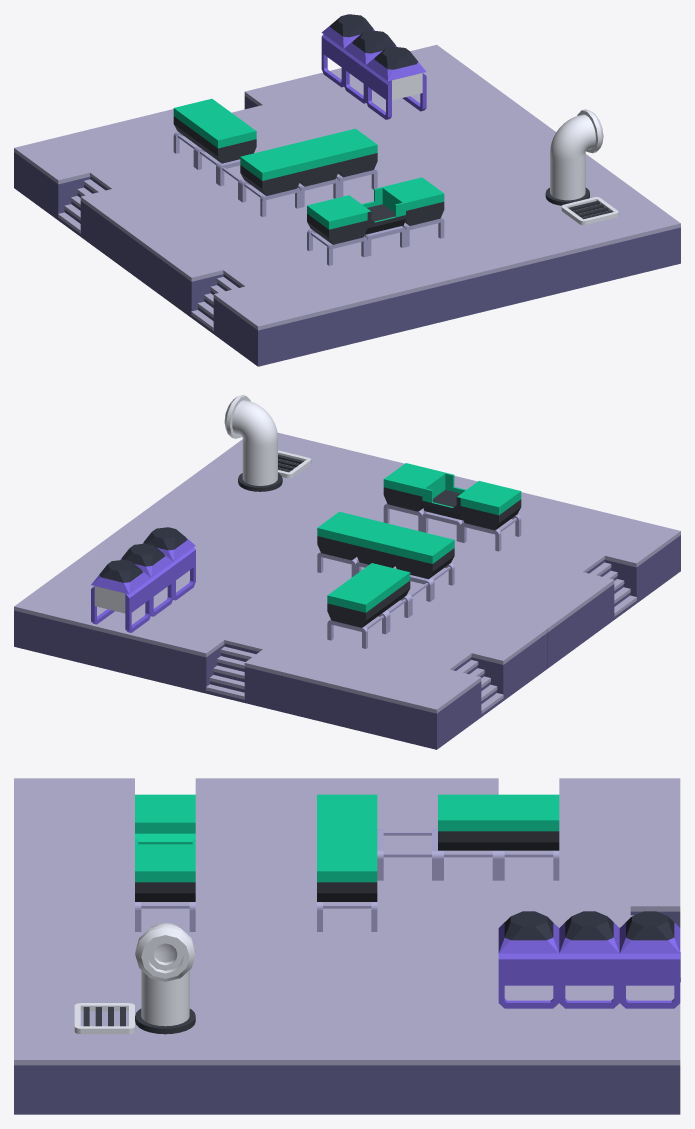
File: room1.glb
3 views of the same model, one above another, from view 1: azimuth 30°, elevation 25°; view 2: azimuth 150°, elevation 25°; view 3: azimuth 270°, elevation 25° (orthographic). The views are drawn at different scales.
Visible parts, largest first — view 1: floor (×85), body_standard (×7), hull_cargoLower (×3), window_domeRound (×3), stairs (×2), pipe_largeBend, pipe_large, body_suv, detail_rollbarLarge (×2), grate_square; view 2: floor (×84), body_standard (×7), stairs (×3), hull_cargoLower (×3), window_domeRound (×3), pipe_largeBend, pipe_large, body_suv, detail_rollbarLarge (×2), grate_square; view 3: floor (×95), body_standard (×7), hull_cargoLower (×3), window_domeRound (×3), detail_rollbarLarge (×5), pipe_large, ring_bevel, grate_square, body_suv.
Part boxes in pixels (box(x1,y1,x2,y2)): floor (×85): box(14, 44, 680, 366); body_standard (×7): box(173, 98, 444, 244); hull_cargoLower (×3): box(321, 34, 426, 119); window_domeRound (×3): box(321, 14, 426, 81); stairs (×2): box(58, 171, 251, 333); pipe_largeBend: box(550, 114, 595, 163); pipe_large: box(545, 157, 589, 205); body_suv: box(345, 186, 405, 234); detail_rollbarLarge (×2): box(240, 180, 367, 265); grate_square: box(561, 197, 618, 225); floor (×84): box(14, 437, 680, 749); body_standard (×7): box(317, 463, 521, 627); stairs (×3): box(206, 554, 636, 716); hull_cargoLower (×3): box(91, 547, 195, 632); window_domeRound (×3): box(91, 527, 195, 594); pipe_largeBend: box(232, 400, 277, 449); pipe_large: box(238, 443, 282, 491); body_suv: box(422, 472, 482, 520); detail_rollbarLarge (×2): box(327, 514, 521, 648); grate_square: box(278, 450, 311, 478); floor (×95): box(14, 778, 680, 1114); body_standard (×7): box(135, 794, 559, 901); hull_cargoLower (×3): box(498, 953, 680, 1008); window_domeRound (×3): box(498, 911, 680, 953); detail_rollbarLarge (×5): box(135, 829, 559, 931); pipe_large: box(135, 959, 195, 1034); ring_bevel: box(135, 924, 195, 981); grate_square: box(74, 1003, 134, 1034); body_suv: box(135, 820, 195, 845).
Size of the model in its own units: 11.01 by 3 by 11.01.
